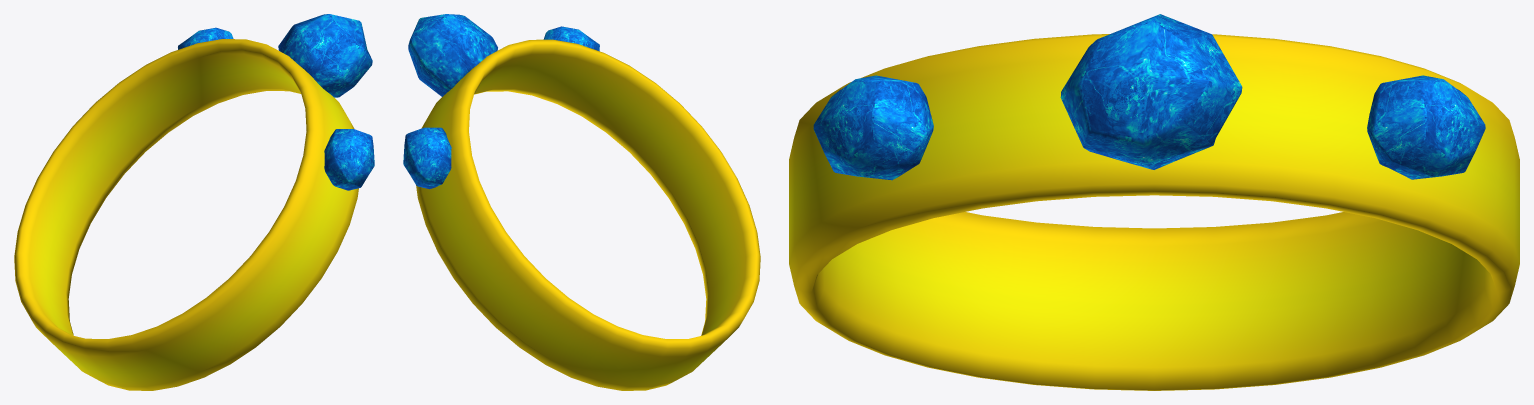
File: topaz_ring.fbx
3 renders of one model, left to right at view 1: azimuth 30°, elevation 25°; view 2: azimuth 150°, elevation 25°; view 3: azimuth 270°, elevation 25°, orthographic. The views are drawn at different scales.
Visible parts, largest first — view 1: ring; view 2: ring; view 3: ring.
Part boxes in pixels (x1,y1,x2,y2): ring: (14, 14, 374, 390); ring: (403, 14, 760, 390); ring: (789, 14, 1519, 390).
Size of the model in its own units: 34.12 by 31.05 by 34.58.
